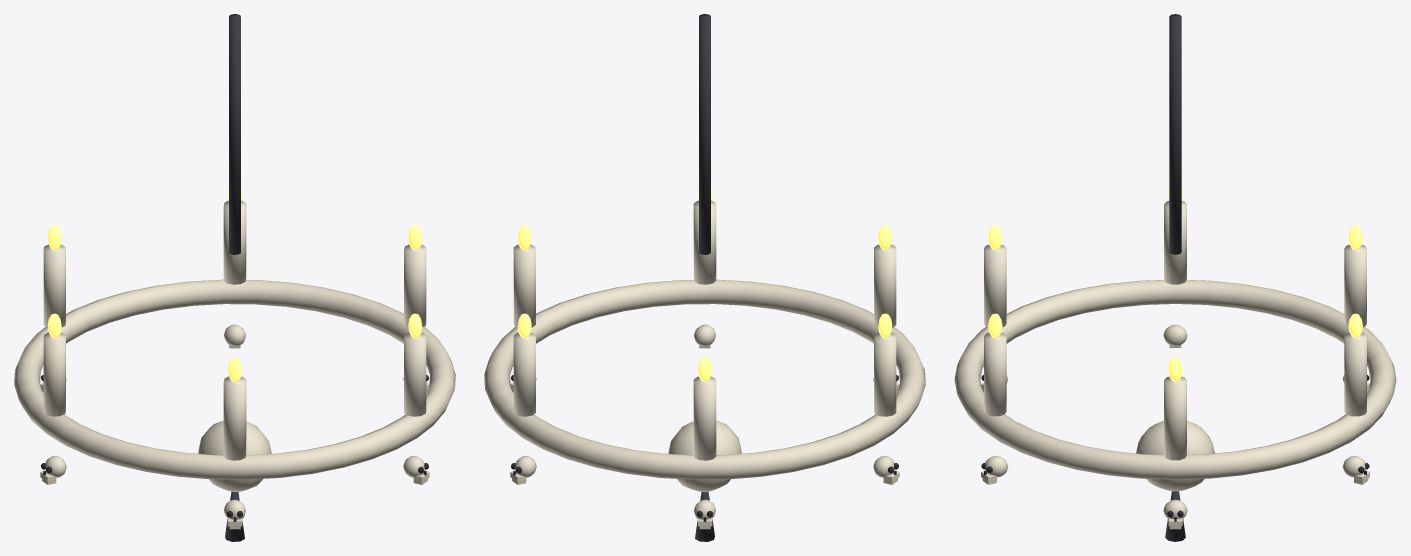
File: chandelier_bone_ring.glb
The picture shows the model from 3 angles, left to right: view 1: azimuth 30°, elevation 25°; view 2: azimuth 150°, elevation 25°; view 3: azimuth 270°, elevation 25°; orthographic projection.
Parts seen in each view (by area): view 1: GD_chandelier_bone_ring__m1, GD_chandelier_bone_ring__m3, GD_chandelier_bone_ring__m0, GD_chandelier_bone_ring__m4; view 2: GD_chandelier_bone_ring__m1, GD_chandelier_bone_ring__m3, GD_chandelier_bone_ring__m0, GD_chandelier_bone_ring__m4; view 3: GD_chandelier_bone_ring__m1, GD_chandelier_bone_ring__m3, GD_chandelier_bone_ring__m0, GD_chandelier_bone_ring__m4.
Part boxes in pixels (x1,y1,x2,y2): GD_chandelier_bone_ring__m1: [14, 279, 455, 529]; GD_chandelier_bone_ring__m3: [43, 200, 426, 460]; GD_chandelier_bone_ring__m0: [225, 14, 244, 541]; GD_chandelier_bone_ring__m4: [47, 188, 422, 381]; GD_chandelier_bone_ring__m1: [484, 279, 925, 529]; GD_chandelier_bone_ring__m3: [513, 200, 896, 460]; GD_chandelier_bone_ring__m0: [695, 14, 714, 541]; GD_chandelier_bone_ring__m4: [517, 188, 892, 381]; GD_chandelier_bone_ring__m1: [954, 280, 1396, 529]; GD_chandelier_bone_ring__m3: [984, 201, 1366, 460]; GD_chandelier_bone_ring__m0: [1165, 14, 1185, 541]; GD_chandelier_bone_ring__m4: [988, 188, 1362, 381].
Bounding box in the file's own units: 0.85 × 1.1 × 0.85.
